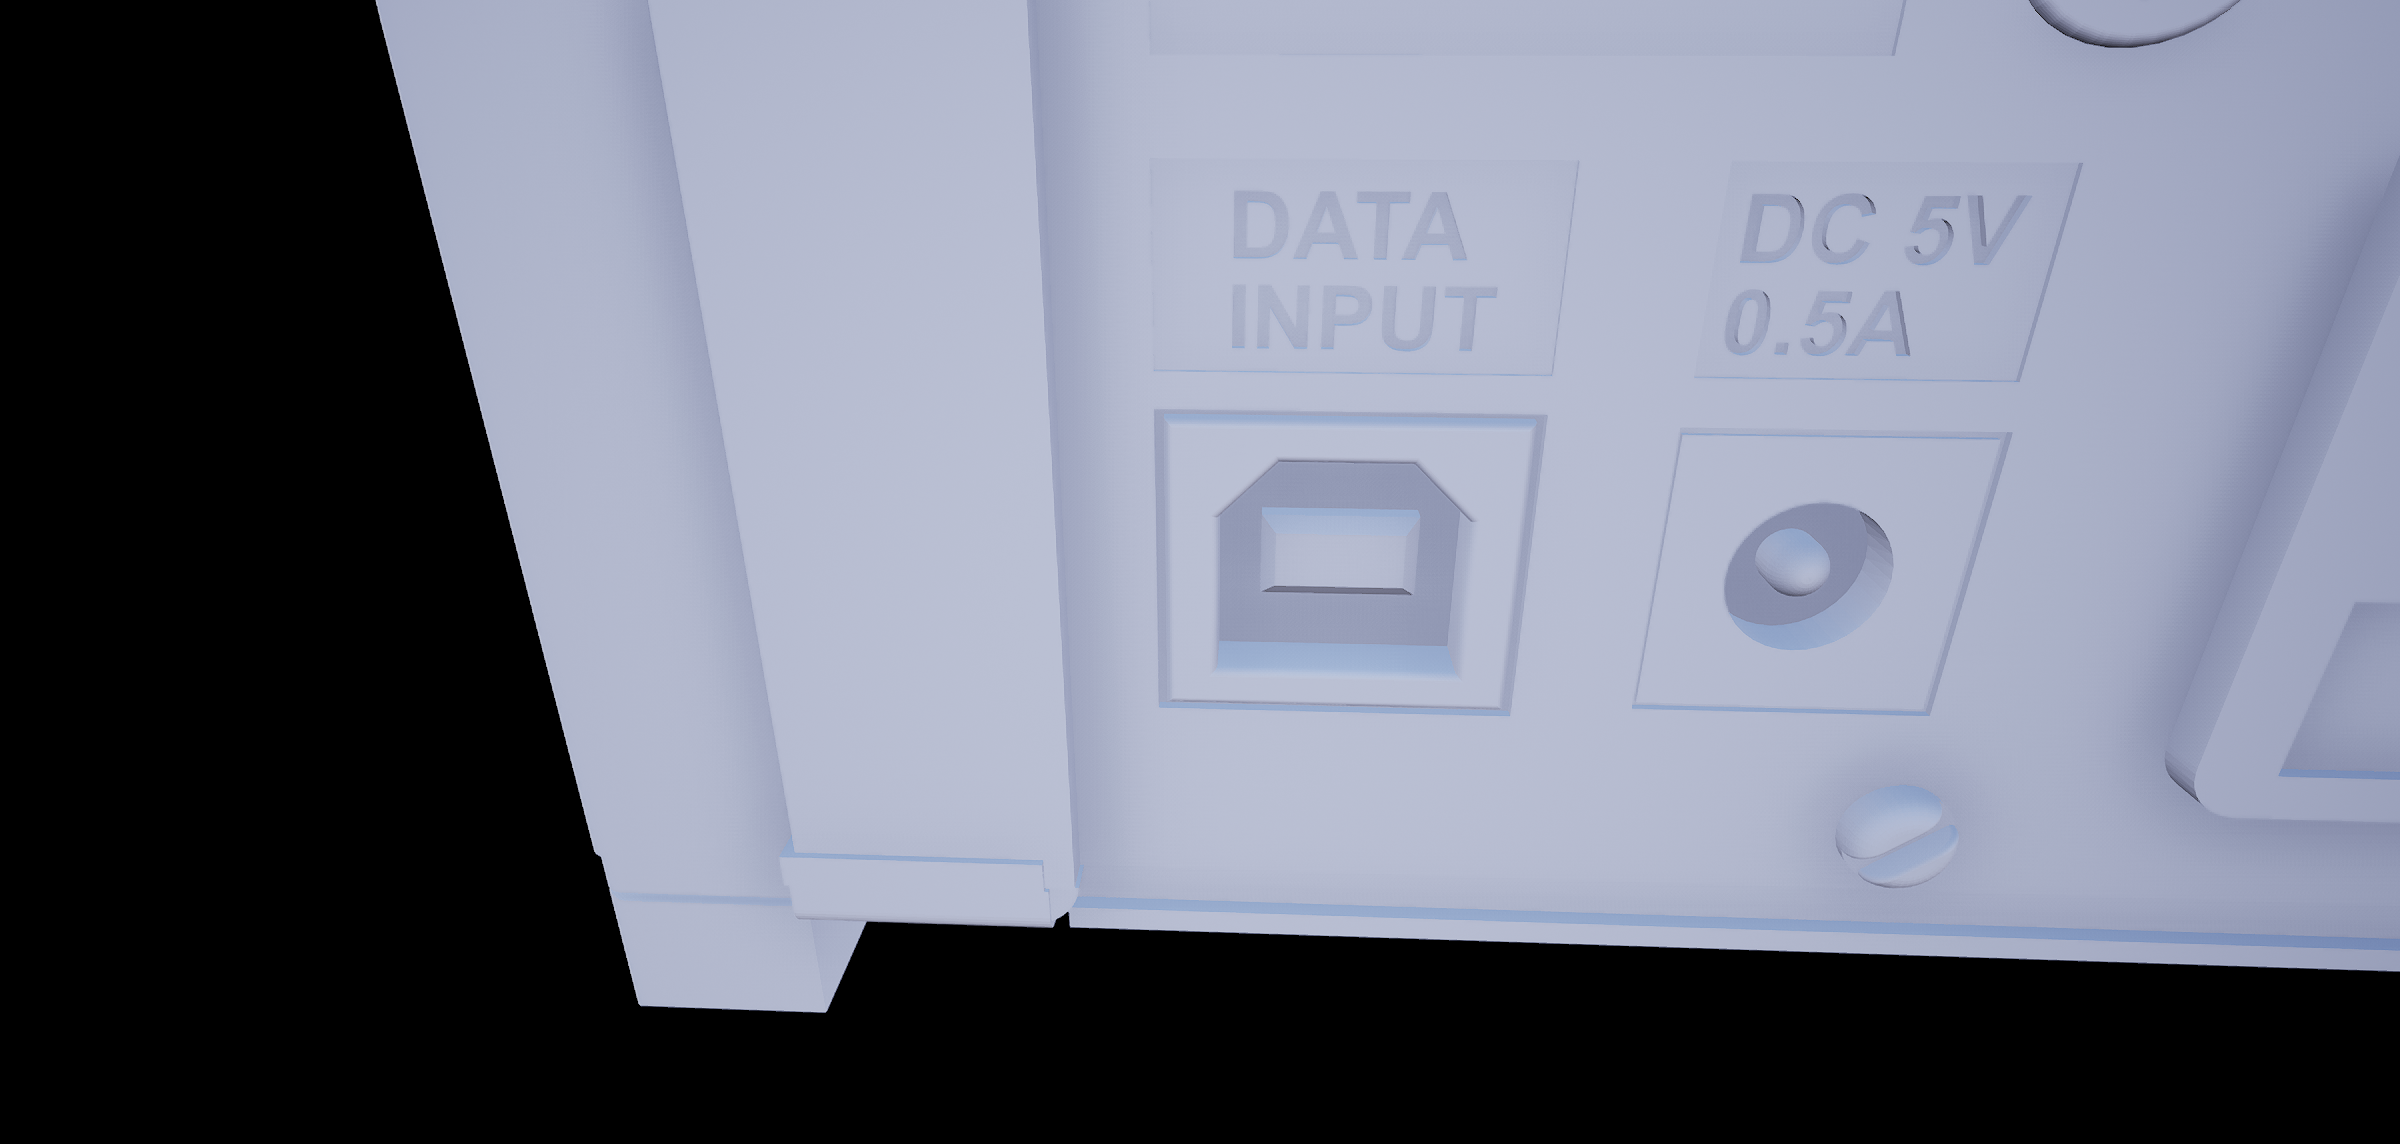dc: (1723, 485, 1889, 672)
usb: (1200, 449, 1491, 688)
